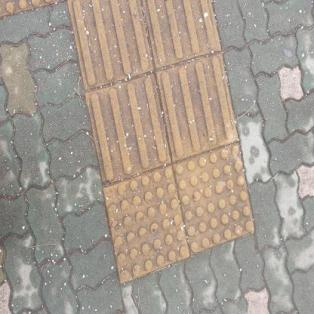Podoctatil: (0, 0, 256, 289)
